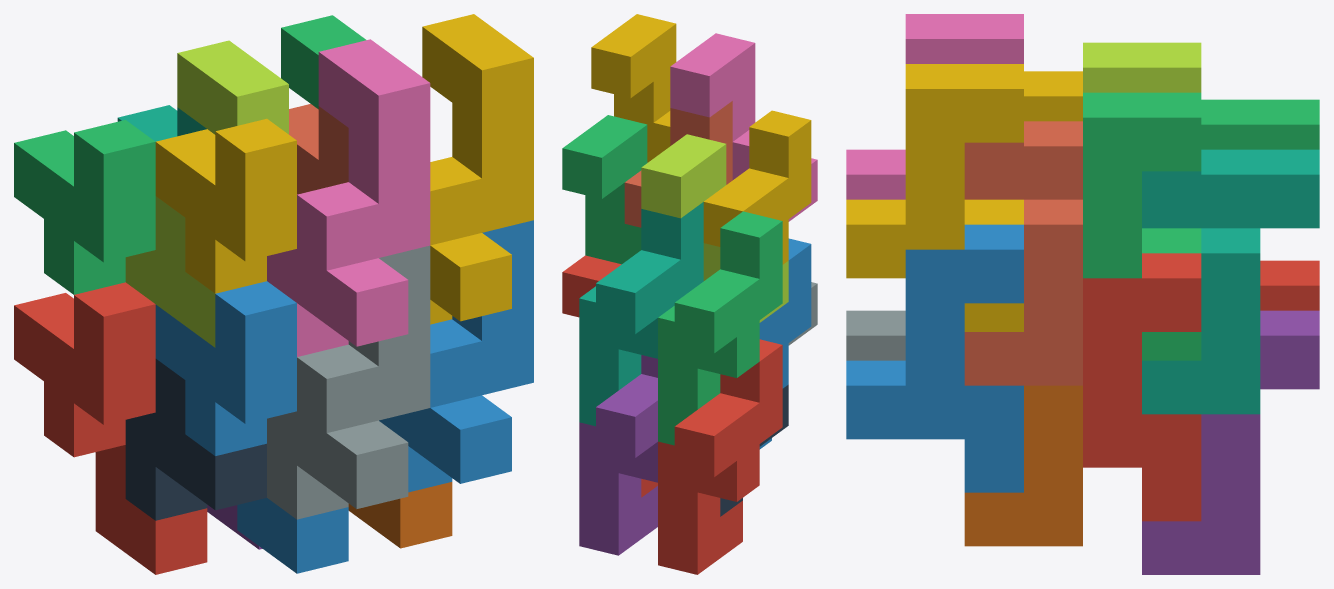
Rendered from tiling.obj.
3 views of the same model, side by side, from view 1: azimuth 30°, elevation 25°; view 2: azimuth 150°, elevation 25°; view 3: azimuth 270°, elevation 25° (orthographic). The views are drawn at different scales.
Parts seen in each view (by area): view 1: copy_2_domain_4, copy_2_domain_8, copy_1_domain_1, copy_2_domain_2, copy_1_domain_2, copy_2_domain_6, copy_1_domain_3, copy_1_domain_4, copy_2_domain_3, copy_2_domain_1, copy_1_domain_8, copy_1_domain_6 (+2 smaller); view 2: copy_1_domain_1, copy_1_domain_3, copy_1_domain_7, copy_1_domain_5, copy_1_domain_4, copy_2_domain_7, copy_2_domain_8, copy_2_domain_4, copy_2_domain_3, copy_1_domain_2, copy_1_domain_8, copy_2_domain_5 (+2 smaller); view 3: copy_2_domain_6, copy_1_domain_7, copy_2_domain_8, copy_2_domain_5, copy_1_domain_8, copy_2_domain_7, copy_1_domain_5, copy_1_domain_6, copy_2_domain_4, copy_1_domain_3, copy_2_domain_3, copy_1_domain_1 (+2 smaller).
Boxes of the visible parts, bbox=[...] form: copy_2_domain_4: bbox=[267, 39, 430, 356]; copy_2_domain_8: bbox=[422, 14, 533, 324]; copy_1_domain_1: bbox=[14, 282, 207, 574]; copy_2_domain_2: bbox=[267, 245, 430, 519]; copy_1_domain_2: bbox=[155, 281, 348, 573]; copy_2_domain_6: bbox=[379, 220, 533, 492]; copy_1_domain_3: bbox=[14, 120, 155, 294]; copy_1_domain_4: bbox=[155, 118, 296, 293]; copy_2_domain_3: bbox=[125, 40, 288, 347]; copy_2_domain_1: bbox=[125, 359, 266, 520]; copy_1_domain_8: bbox=[289, 104, 348, 194]; copy_1_domain_6: bbox=[348, 482, 452, 548]; copy_1_domain_1: bbox=[658, 339, 782, 574]; copy_1_domain_3: bbox=[658, 211, 782, 445]; copy_1_domain_7: bbox=[579, 202, 703, 426]; copy_1_domain_5: bbox=[579, 355, 657, 555]; copy_1_domain_4: bbox=[703, 110, 811, 264]; copy_2_domain_7: bbox=[562, 115, 647, 264]; copy_2_domain_8: bbox=[591, 14, 676, 162]; copy_2_domain_4: bbox=[670, 33, 817, 221]; copy_2_domain_3: bbox=[641, 134, 788, 322]; copy_1_domain_2: bbox=[759, 238, 811, 449]; copy_1_domain_8: bbox=[624, 101, 732, 227]; copy_2_domain_5: bbox=[562, 255, 657, 497]; copy_2_domain_6: bbox=[846, 224, 1023, 492]; copy_1_domain_7: bbox=[1142, 149, 1319, 414]; copy_2_domain_8: bbox=[846, 64, 1023, 331]; copy_2_domain_5: bbox=[1083, 253, 1201, 521]; copy_1_domain_8: bbox=[964, 121, 1082, 385]; copy_2_domain_7: bbox=[1083, 92, 1201, 360]; copy_1_domain_5: bbox=[1142, 310, 1319, 574]; copy_1_domain_6: bbox=[964, 385, 1082, 546]; copy_2_domain_4: bbox=[846, 14, 1023, 199]; copy_1_domain_3: bbox=[1201, 99, 1319, 149]; copy_2_domain_3: bbox=[1083, 42, 1201, 92]; copy_1_domain_1: bbox=[1260, 260, 1319, 310].
Bounding box in the file's own units: 6 × 10 × 8.
